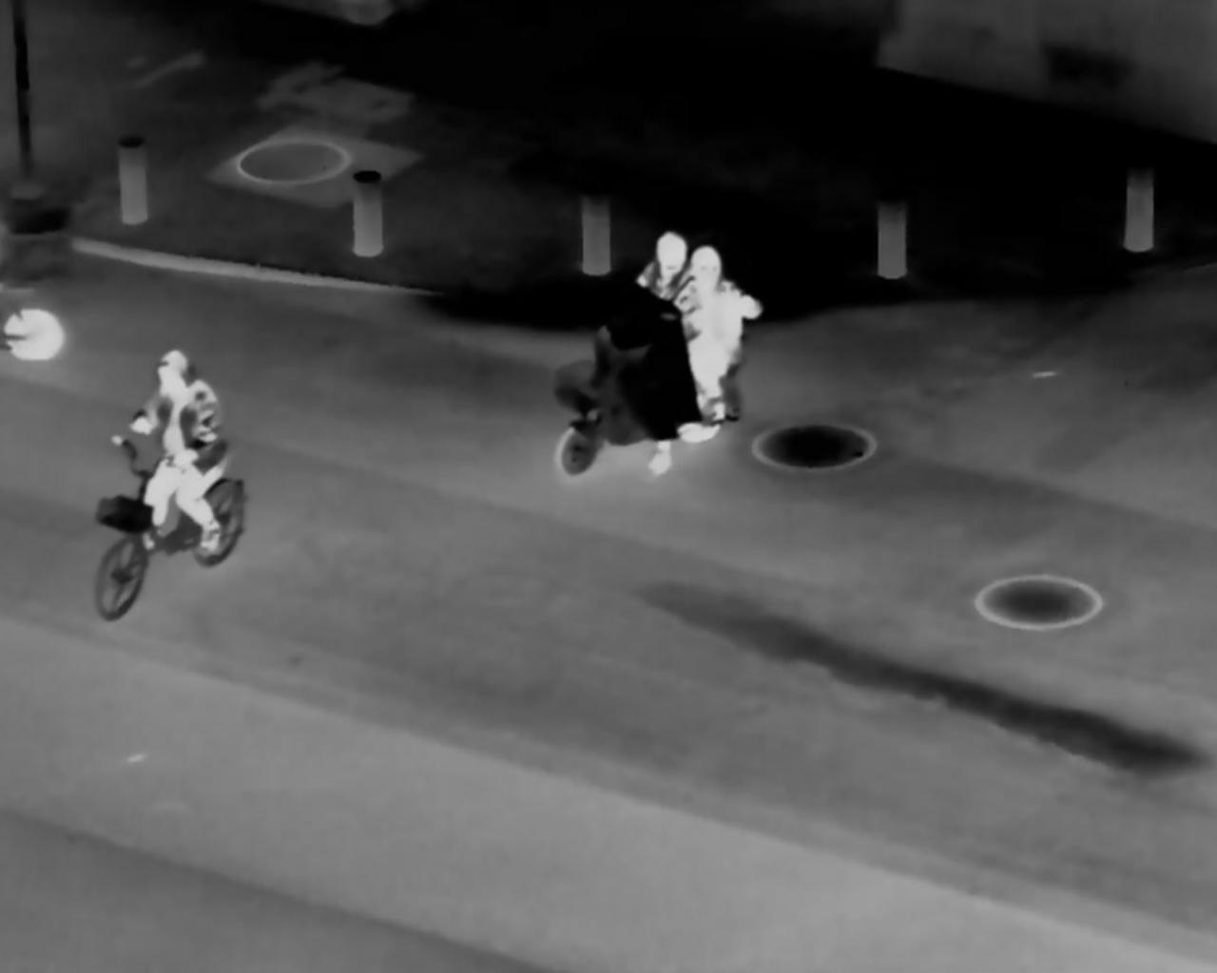person: (131, 350, 226, 551), (620, 232, 695, 470), (684, 248, 757, 446)
